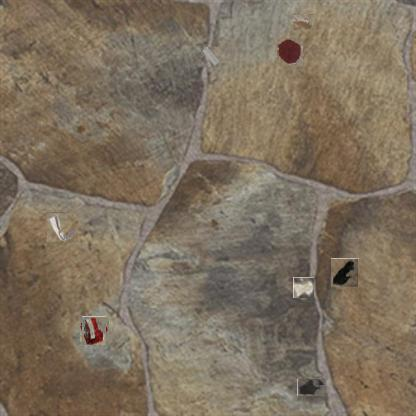dirty: (46, 212, 78, 242), (332, 258, 360, 287), (81, 317, 108, 344), (293, 277, 314, 298), (201, 47, 221, 67), (292, 14, 314, 30)
liquid: (277, 38, 303, 66), (297, 378, 324, 396)
